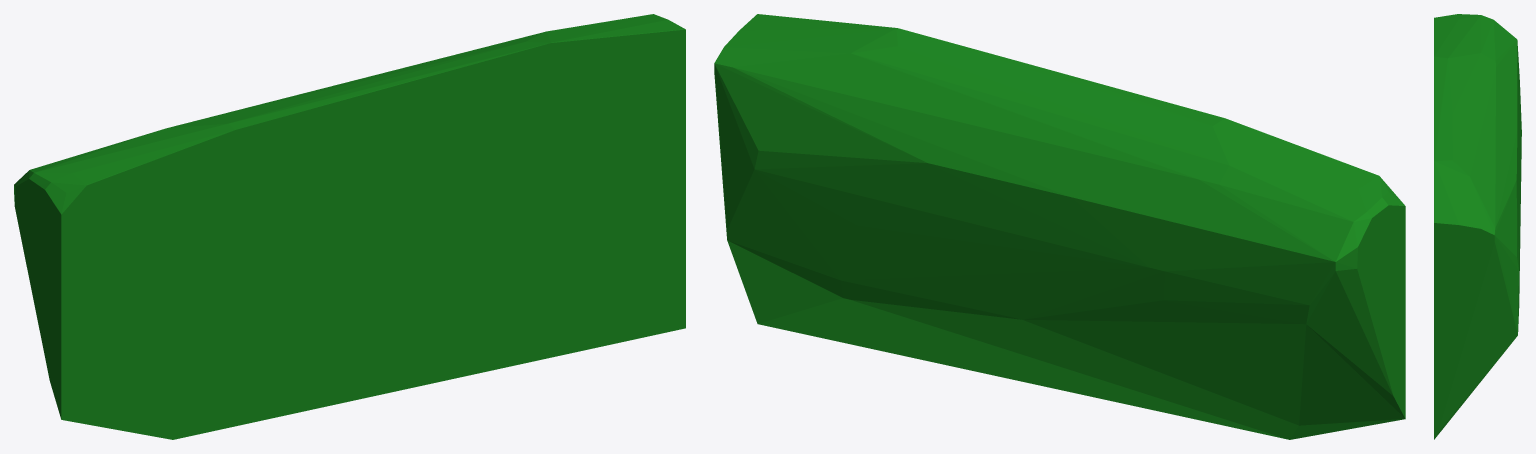
3 renders of one model, left to right at view 1: azimuth 30°, elevation 25°; view 2: azimuth 150°, elevation 25°; view 3: azimuth 270°, elevation 25°, orthographic. The views are drawn at different scales.
Size of the model in its own units: 0.0383 by 0.0187 by 0.00642.
